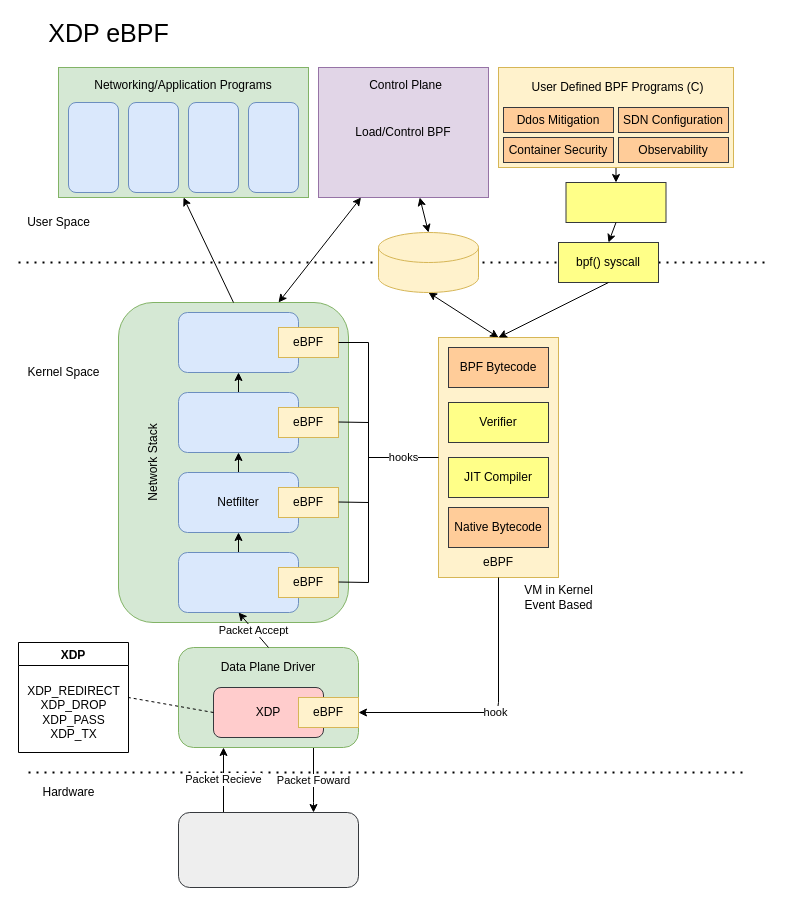
Image size: 787x905. Some labels were removed from this diagram. Here are the shapes that lost their labels. From the top down, the centre of each, then its label:
At point 615,202: "LLVM/Clang".
At point 428,262: "eBPF Maps".
At point 238,342: "Socket".
At point 238,422: "TCP Stack".
At point 238,582: "Traffic Control".
At point 268,850: "NIC设备".
